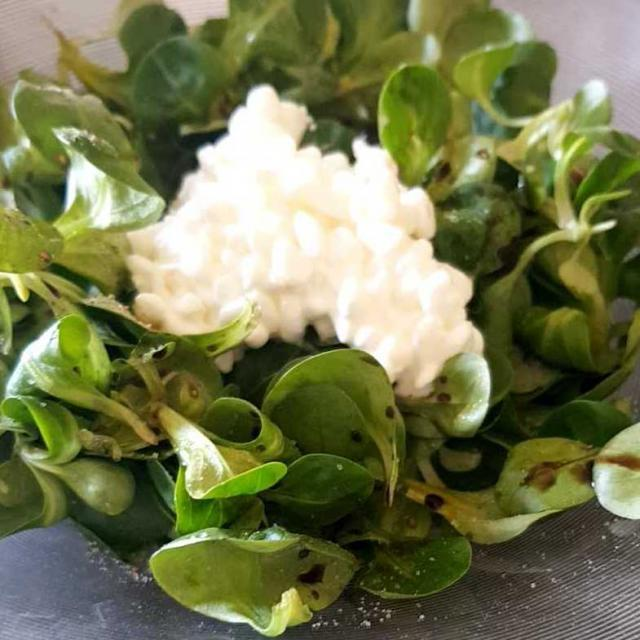cheese: (108, 99, 519, 442)
salad: (35, 14, 636, 621), (66, 209, 575, 608)
